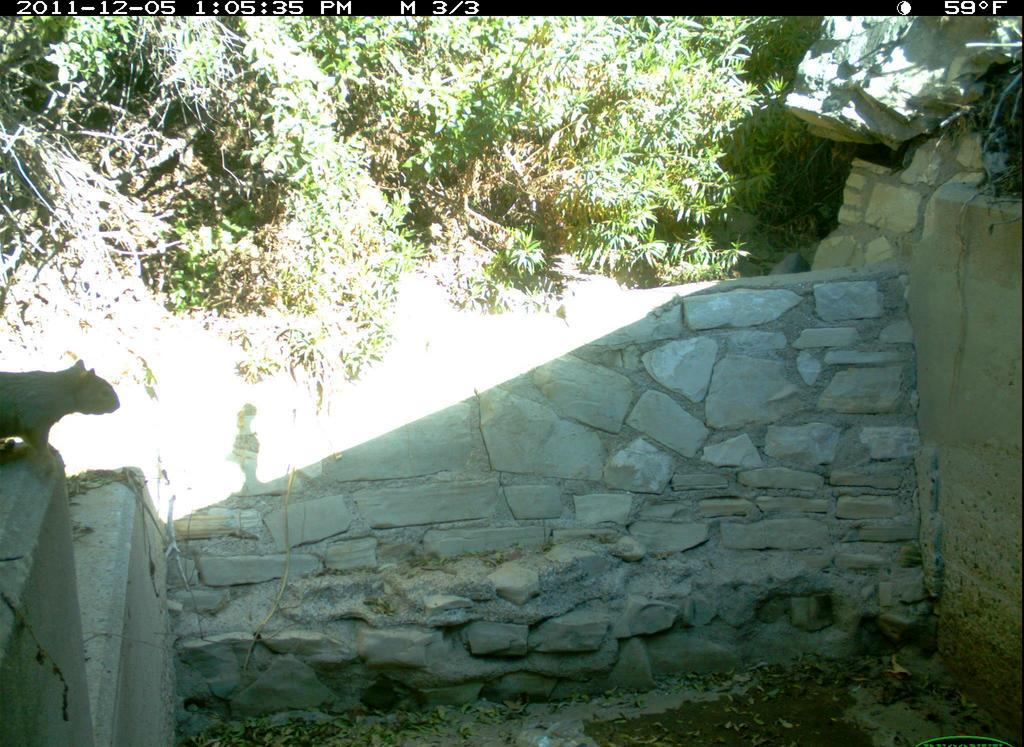squirrel: (1, 350, 163, 476)
